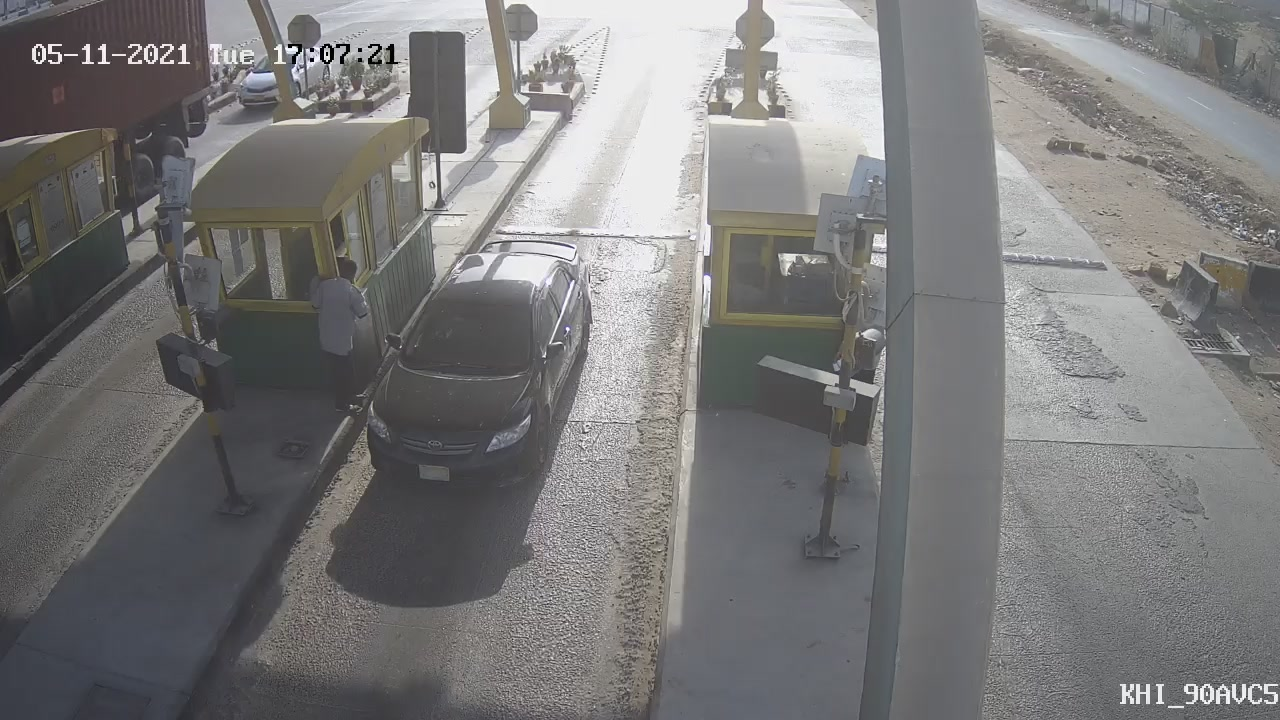F1: (343, 216, 608, 505)
